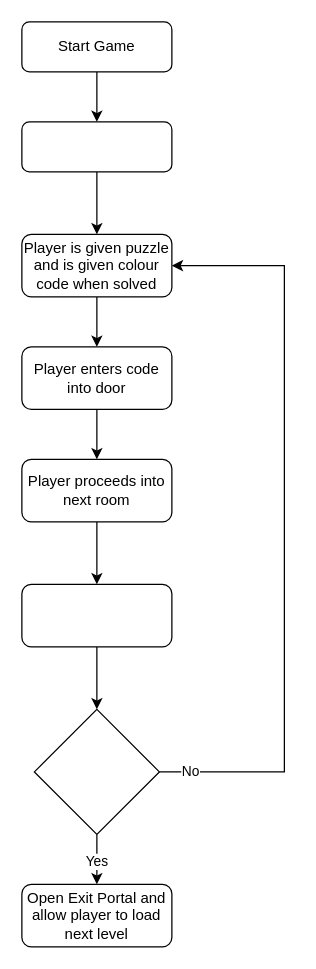
The diagram is 316 pixels wide and 969 high, and some of its shapes have lost their labels. Each missing label, with the centre of its shape:
Has player completed all objectives?: the point at 96,771
Load and generate dungeon: the point at 96,146
Update objective count: the point at 96,615
